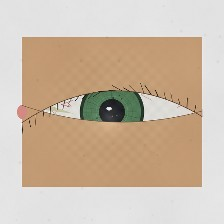pterygium_lesion: (21, 89, 80, 135)
